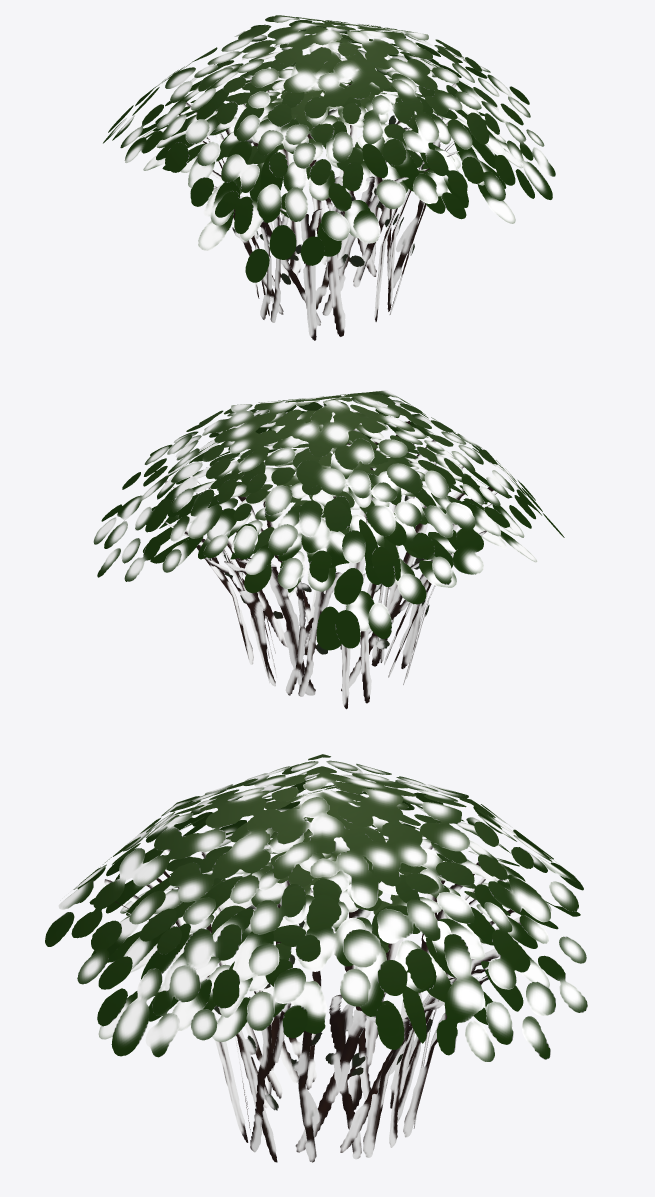
File: SNOW_BUSH.glb
3 views of the same model, one above another, from view 1: azimuth 30°, elevation 25°; view 2: azimuth 150°, elevation 25°; view 3: azimuth 270°, elevation 25° (orthographic). The views are drawn at different scales.
Parts seen in each view (by area): view 1: Bush.005; view 2: Bush.005; view 3: Bush.005.
Part boxes in pixels (x1,y1,x2,y2): Bush.005: (103, 15, 555, 340); Bush.005: (93, 390, 564, 709); Bush.005: (45, 754, 587, 1162).
Bounding box in the file's own units: 0.8699 × 0.5688 × 0.8696.
1 material, 1 textured.
